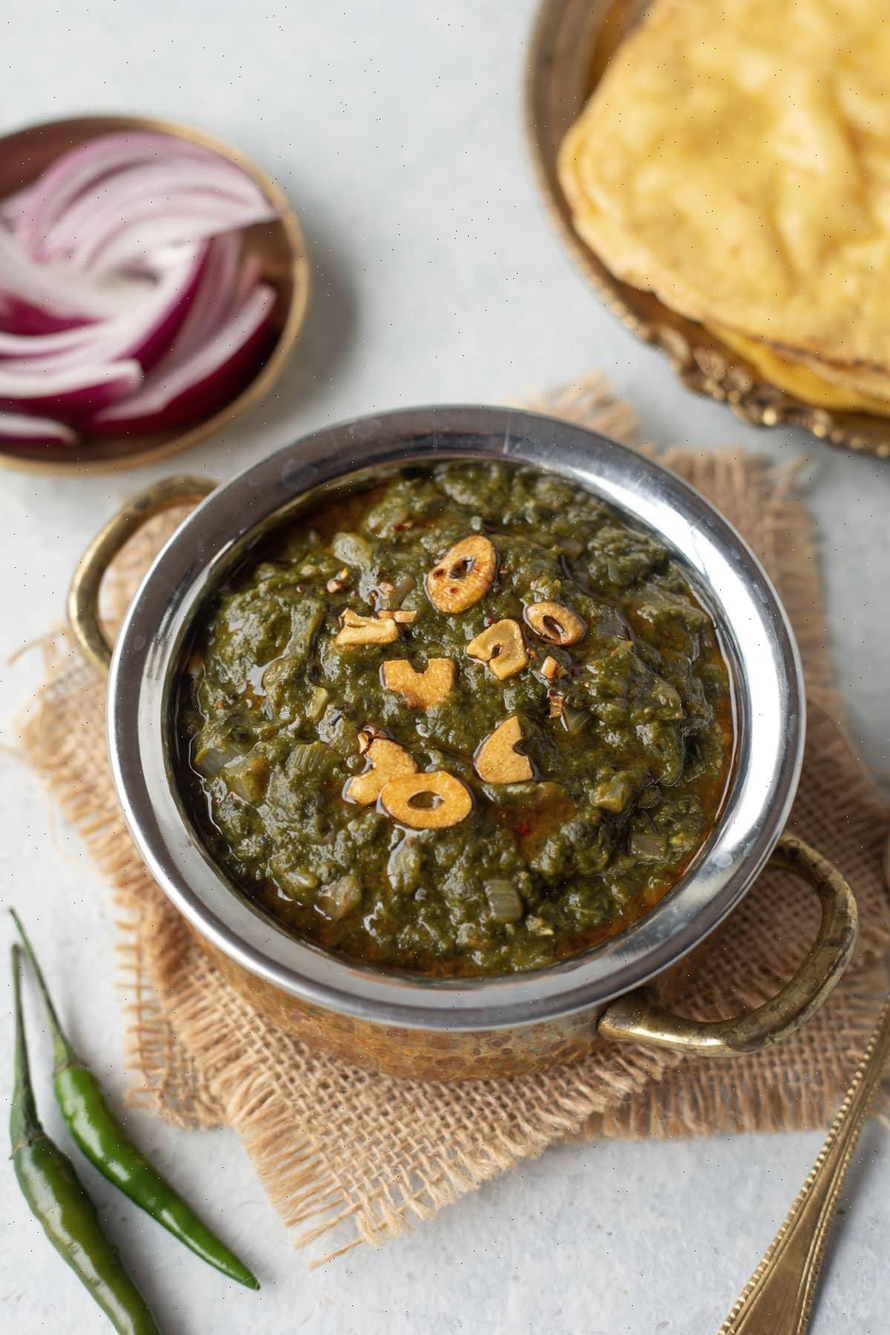saag: (180, 448, 746, 994)
